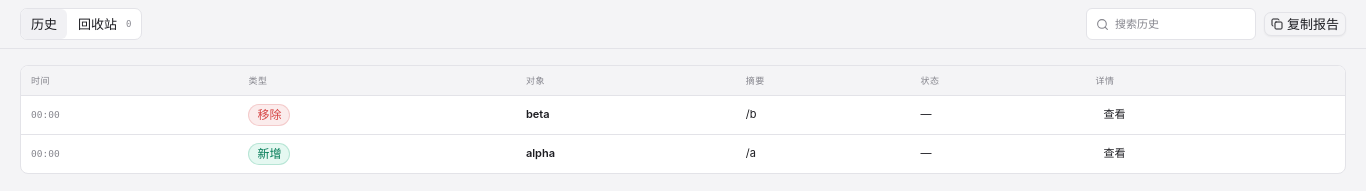
Test: filters timeline events by search
Expected: the text "alpha" is shown, [526,146,555,160]
In the field labelled "搜索历史": [1180, 24] box [1115,9,1246,39], type "beta"
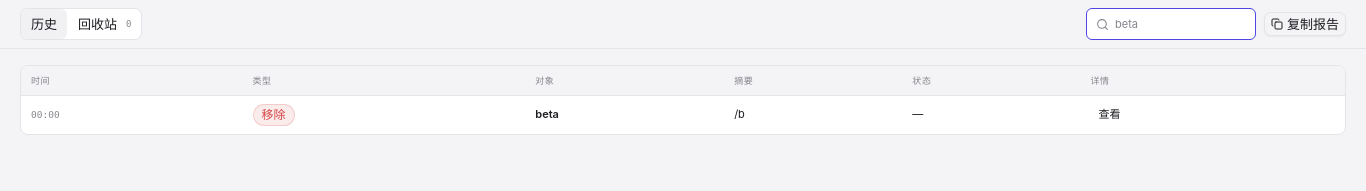
Expected: the text "beta" is shown, [535,107,559,121]
Expected: the text "alpha" is gone
